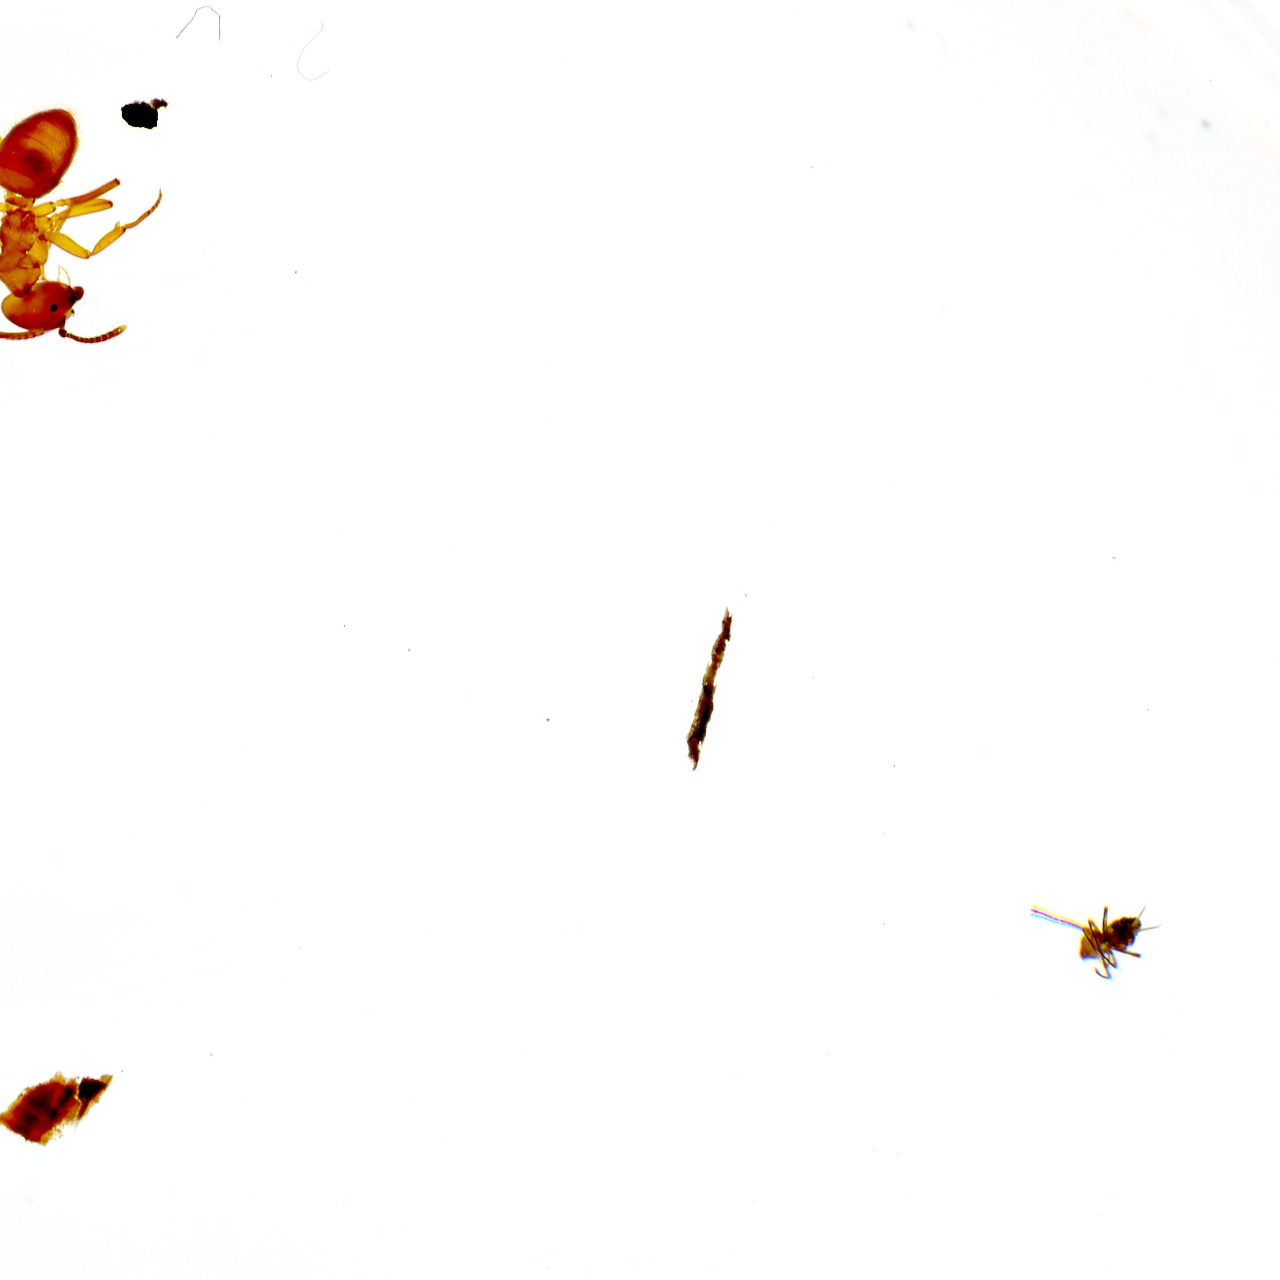arthropod: (0, 69, 175, 365), (1024, 886, 1163, 990)
